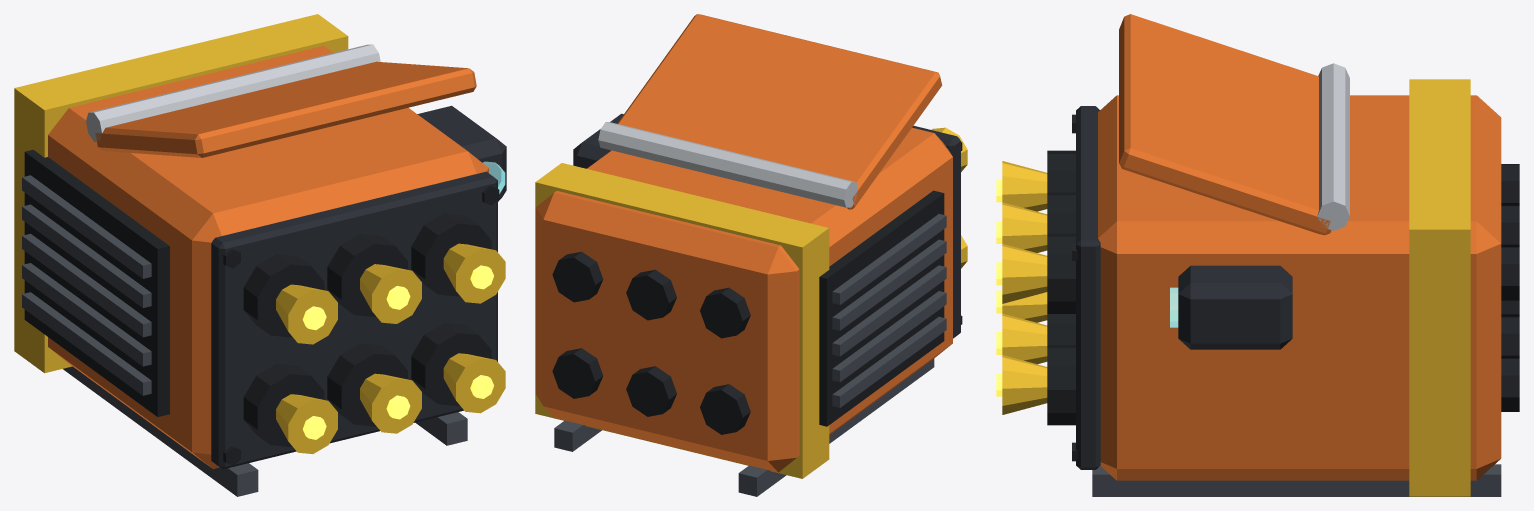
File: weapon_missile_pod_mk1.glb
The picture shows the model from 3 angles, left to right: view 1: azimuth 30°, elevation 25°; view 2: azimuth 150°, elevation 25°; view 3: azimuth 270°, elevation 25°; orthographic projection. The views are drawn at different scales.
Visible parts, largest first — view 1: pod_body, pod_face, pod_tubes, armor_pod_cover, pod_stripe, pod_missiles, pod_vent, pod_vent_frame, pod_cover_hinge, pod_rails, pod_sensor, pod_tips (+1 smaller); view 2: pod_body, armor_pod_cover, pod_stripe, pod_exhaust, pod_vent, pod_vent_frame, pod_cover_hinge, pod_rails, pod_face, pod_sensor; view 3: pod_body, armor_pod_cover, pod_stripe, pod_missiles, pod_sensor, pod_face, pod_tubes, pod_rails, pod_cover_hinge, pod_exhaust, pod_tips.
Part boxes in pixels (x1=…): pod_body: x1=48, y1=45, x2=488, y2=468; pod_face: x1=211, y1=171, x2=497, y2=469; pod_tubes: x1=243, y1=213, x2=491, y2=446; armor_pod_cover: x1=95, y1=61, x2=476, y2=157; pod_stripe: x1=14, y1=14, x2=348, y2=373; pod_missiles: x1=276, y1=243, x2=505, y2=453; pod_vent: x1=22, y1=175, x2=151, y2=395; pod_vent_frame: x1=24, y1=149, x2=169, y2=416; pod_cover_hinge: x1=86, y1=44, x2=380, y2=141; pod_rails: x1=63, y1=366, x2=467, y2=496; pod_sensor: x1=417, y1=105, x2=506, y2=201; pod_tips: x1=302, y1=265, x2=493, y2=439; pod_body: x1=535, y1=127, x2=952, y2=472; armor_pod_cover: x1=610, y1=14, x2=942, y2=209; pod_stripe: x1=535, y1=163, x2=829, y2=478; pod_exhaust: x1=552, y1=251, x2=750, y2=434; pod_vent: x1=832, y1=214, x2=946, y2=407; pod_vent_frame: x1=819, y1=190, x2=944, y2=426; pod_cover_hinge: x1=598, y1=122, x2=858, y2=207; pod_rails: x1=554, y1=359, x2=934, y2=496; pod_face: x1=912, y1=125, x2=960, y2=338; pod_sensor: x1=573, y1=113, x2=623, y2=168; pod_body: x1=1098, y1=95, x2=1501, y2=480; armor_pod_cover: x1=1119, y1=14, x2=1331, y2=235; pod_stripe: x1=1409, y1=79, x2=1470, y2=496; pod_missiles: x1=1002, y1=161, x2=1047, y2=414; pod_sensor: x1=1178, y1=265, x2=1292, y2=349; pod_face: x1=1076, y1=106, x2=1100, y2=469; pod_tubes: x1=1047, y1=150, x2=1075, y2=425; pod_rails: x1=1092, y1=464, x2=1501, y2=496; pod_cover_hinge: x1=1317, y1=63, x2=1349, y2=230; pod_exhaust: x1=1501, y1=164, x2=1519, y2=411; pod_tips: x1=996, y1=179, x2=1002, y2=396.
Size of what is drawn, in the model's own units: 1.07 by 0.9684 by 1.28.
